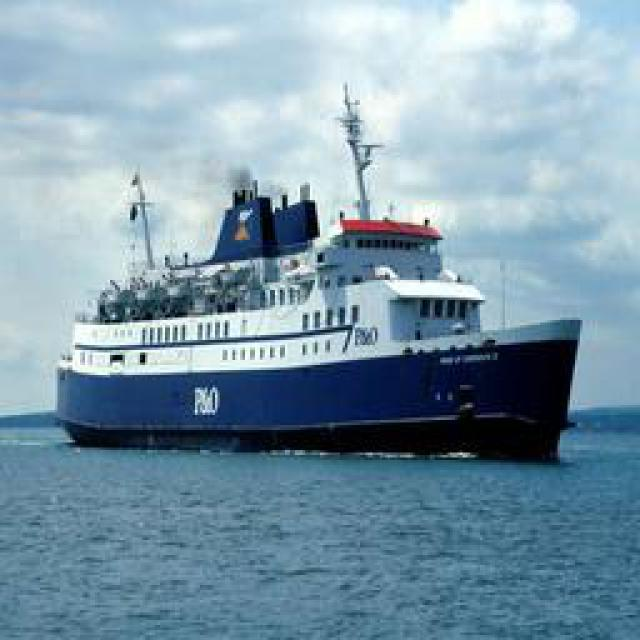Ship: (61, 100, 581, 448)
